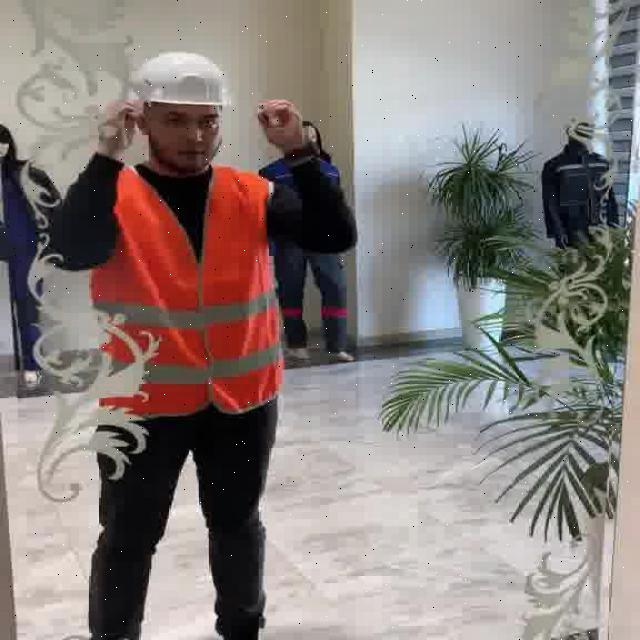Vest: (107, 159, 284, 415)
